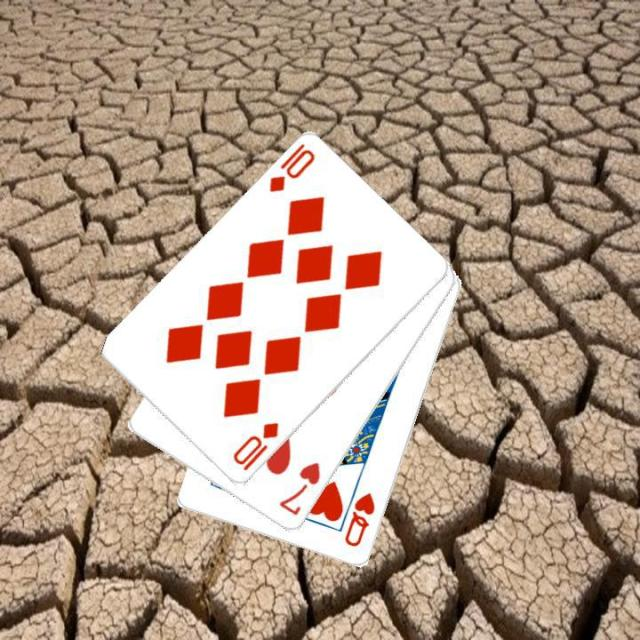10D: (228, 418, 281, 474), (265, 140, 317, 194)
7H: (274, 458, 322, 518)
QH: (340, 489, 377, 549)
